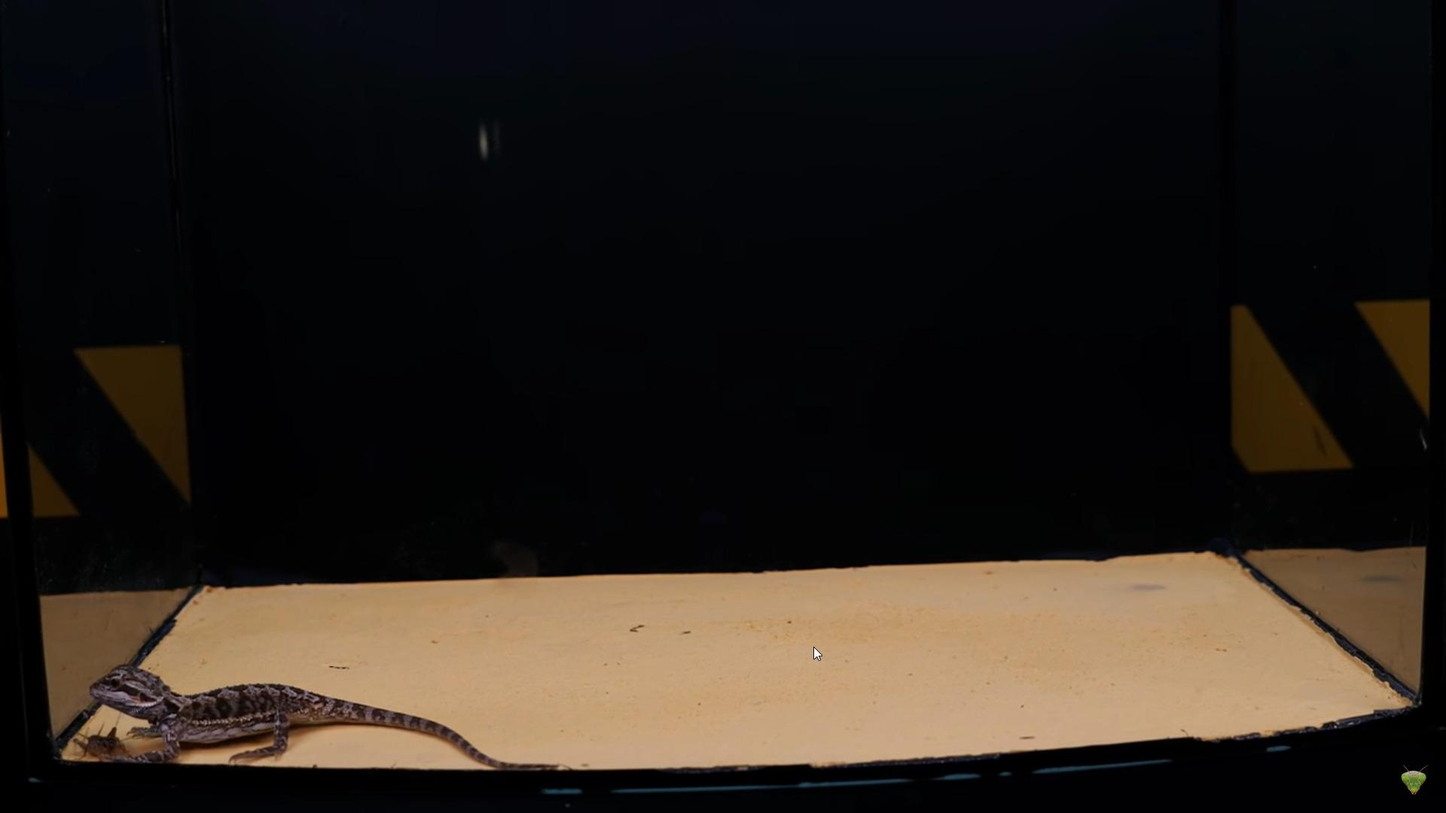cockroach: (70, 720, 126, 763)
lizard: (88, 649, 461, 751)
